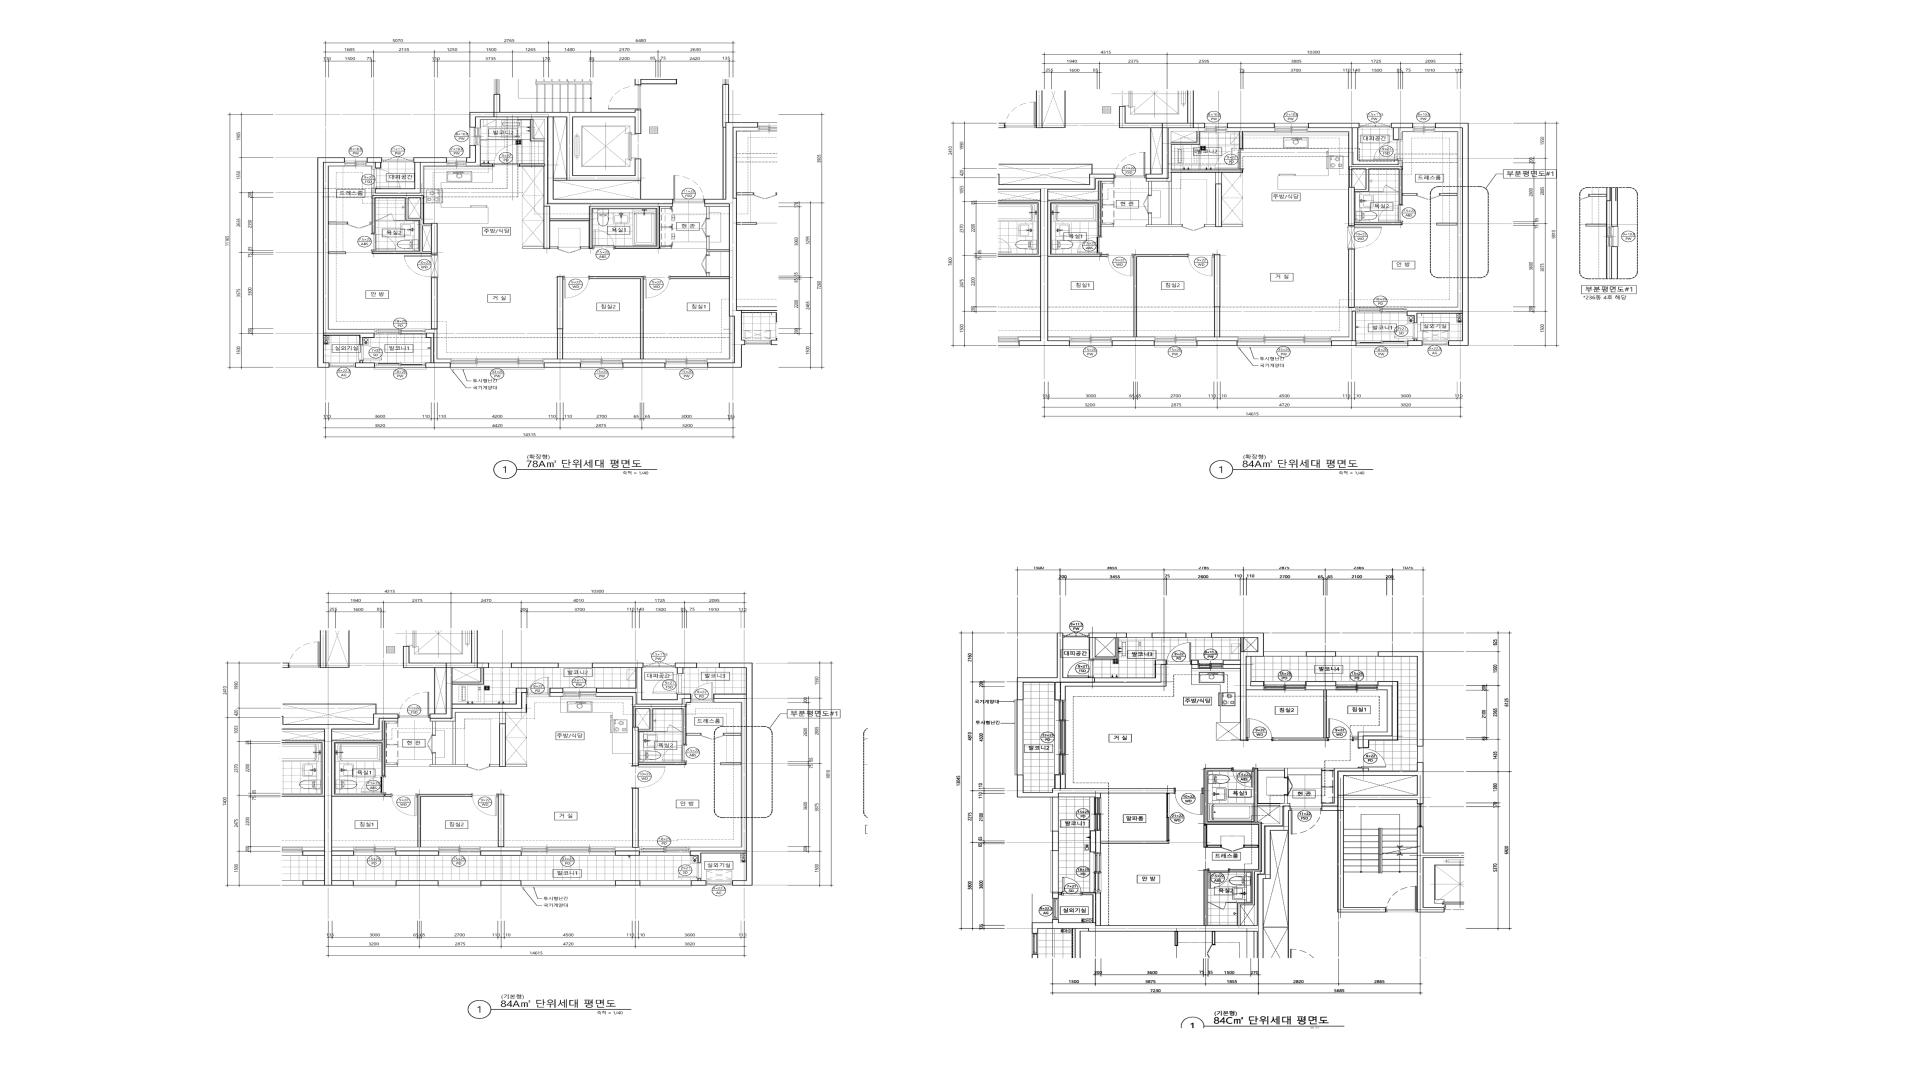door: (1291, 807, 1321, 835), (1114, 152, 1146, 178), (673, 175, 704, 202), (1174, 789, 1204, 815), (398, 692, 430, 717), (608, 86, 641, 109), (1349, 225, 1382, 249), (404, 255, 438, 277), (632, 766, 665, 789), (390, 794, 418, 816), (1215, 149, 1244, 170), (653, 674, 683, 694), (1328, 719, 1354, 741), (1246, 719, 1273, 741), (493, 144, 520, 166), (472, 794, 498, 816), (1374, 140, 1403, 160), (1166, 642, 1191, 665), (1108, 255, 1134, 276), (644, 277, 670, 298), (563, 277, 589, 298), (1188, 255, 1215, 276), (1358, 748, 1386, 767), (372, 169, 400, 189), (1067, 659, 1095, 678), (526, 676, 550, 696), (1378, 204, 1403, 223), (1207, 869, 1229, 889), (691, 683, 713, 703), (592, 229, 615, 249), (372, 233, 396, 252), (1077, 236, 1101, 255), (1233, 767, 1254, 787), (662, 745, 686, 762), (361, 777, 385, 794), (1062, 877, 1083, 895), (679, 862, 702, 878), (360, 344, 382, 360), (1395, 323, 1418, 339), (1208, 902, 1237, 910), (1166, 794, 1170, 841), (1284, 777, 1292, 796), (700, 733, 724, 740), (347, 222, 371, 228), (1182, 224, 1205, 231), (1221, 845, 1244, 852), (558, 247, 580, 253), (427, 735, 435, 753), (702, 255, 709, 273), (1143, 195, 1151, 214), (702, 219, 709, 236), (376, 214, 393, 222), (1383, 185, 1399, 193), (467, 765, 489, 770), (1418, 194, 1440, 199), (667, 725, 683, 732)
wall: (1031, 806, 1290, 959), (469, 94, 673, 204), (670, 84, 741, 368), (476, 117, 673, 219), (1321, 762, 1424, 913), (690, 663, 753, 886), (1407, 123, 1469, 345), (1204, 767, 1290, 926), (324, 713, 398, 886), (1040, 174, 1114, 345), (318, 157, 375, 368), (1407, 128, 1462, 311), (1017, 633, 1166, 700), (1146, 128, 1244, 227), (402, 646, 526, 719), (323, 162, 375, 332), (690, 699, 746, 851), (430, 692, 526, 766), (1120, 107, 1205, 179), (1212, 633, 1265, 741), (543, 206, 659, 249), (1134, 255, 1188, 336), (589, 277, 644, 359), (1378, 651, 1424, 746), (592, 663, 691, 704), (1418, 827, 1464, 913), (372, 195, 438, 255), (1308, 123, 1399, 165), (1308, 128, 1403, 166), (1017, 775, 1174, 798), (632, 707, 686, 766), (1349, 166, 1403, 225), (418, 794, 472, 847), (1273, 690, 1328, 741), (375, 157, 447, 194), (1358, 682, 1398, 748), (372, 162, 447, 195), (1263, 831, 1288, 927), (1321, 767, 1364, 806), (1344, 775, 1418, 795), (596, 694, 691, 707), (708, 316, 735, 363), (332, 719, 398, 732), (426, 334, 451, 368), (426, 330, 451, 363), (1332, 311, 1356, 345), (1048, 179, 1114, 191), (1332, 307, 1356, 340), (1089, 638, 1118, 659), (556, 277, 563, 359), (1257, 806, 1280, 824), (1215, 255, 1220, 336), (1171, 131, 1200, 145), (707, 236, 729, 255), (632, 789, 638, 848), (1391, 123, 1414, 140), (452, 669, 480, 682), (704, 204, 729, 219), (497, 794, 504, 847), (431, 277, 438, 330), (1352, 169, 1366, 190), (1349, 249, 1354, 307), (530, 120, 545, 141), (636, 709, 650, 729), (1216, 183, 1222, 227), (634, 79, 676, 86), (467, 145, 480, 166), (510, 663, 558, 669), (1089, 831, 1101, 852), (1228, 123, 1275, 128), (1305, 682, 1336, 690), (675, 663, 698, 674), (409, 198, 421, 218), (396, 851, 439, 856), (1204, 869, 1208, 926), (500, 724, 505, 766), (396, 881, 438, 886), (622, 363, 665, 368), (1112, 340, 1154, 345), (480, 851, 521, 856), (481, 881, 521, 886), (1197, 340, 1237, 345), (1089, 633, 1126, 638), (543, 363, 580, 368), (1228, 128, 1275, 132), (367, 157, 382, 169), (1153, 633, 1187, 638), (1101, 841, 1170, 844), (1399, 128, 1414, 140), (396, 847, 439, 851), (622, 359, 665, 363), (1112, 336, 1154, 340), (480, 847, 521, 851), (1305, 651, 1336, 657), (467, 145, 476, 162), (355, 360, 375, 368), (1197, 336, 1237, 340), (543, 359, 580, 363), (615, 851, 640, 856), (1052, 831, 1059, 851), (691, 878, 707, 886), (616, 881, 640, 886), (615, 847, 640, 851), (1408, 339, 1423, 345), (1048, 336, 1069, 340), (332, 847, 353, 851), (1240, 132, 1244, 149), (520, 164, 545, 166), (1191, 661, 1199, 669), (1150, 128, 1151, 174), (434, 669, 435, 713), (1222, 224, 1244, 227), (522, 247, 543, 249), (550, 692, 563, 696), (550, 688, 563, 692), (367, 162, 375, 169), (686, 733, 700, 736), (1101, 224, 1114, 227), (1241, 638, 1244, 651), (1052, 893, 1059, 898), (480, 164, 493, 166), (554, 178, 567, 181), (659, 247, 671, 249), (505, 765, 527, 766), (1205, 224, 1216, 227), (580, 247, 589, 249), (640, 181, 641, 199), (550, 247, 558, 249), (1403, 194, 1418, 195), (1370, 191, 1383, 193), (385, 765, 397, 766), (393, 220, 405, 222), (489, 765, 500, 766), (707, 273, 709, 277), (1353, 738, 1358, 740), (1059, 893, 1062, 895), (371, 222, 372, 224), (653, 732, 667, 732)
window: (450, 359, 545, 369), (1237, 336, 1332, 347), (521, 847, 615, 856), (1055, 700, 1065, 775), (521, 881, 616, 887), (1015, 700, 1023, 775), (1089, 852, 1101, 893), (640, 847, 690, 856), (665, 359, 708, 369), (1154, 336, 1197, 347), (580, 359, 622, 369), (1069, 336, 1112, 347), (375, 330, 426, 338), (1089, 798, 1101, 831), (353, 847, 396, 856), (1050, 851, 1059, 893), (439, 847, 480, 856), (640, 881, 691, 887), (375, 363, 426, 369), (1336, 682, 1378, 690), (1263, 682, 1305, 690), (1275, 123, 1308, 132), (1050, 798, 1059, 831), (438, 881, 481, 887), (353, 881, 396, 887), (1356, 342, 1408, 347), (1356, 307, 1407, 313), (563, 688, 596, 696), (1199, 659, 1224, 669), (1336, 651, 1378, 657), (1263, 651, 1305, 657), (1205, 123, 1228, 132), (344, 157, 367, 166), (1414, 123, 1435, 132), (447, 157, 467, 166), (558, 663, 592, 669), (469, 128, 480, 145), (1063, 632, 1089, 638), (1360, 123, 1391, 128), (644, 662, 675, 667), (381, 157, 413, 162), (1418, 804, 1424, 827), (1052, 898, 1059, 919), (1126, 633, 1153, 638), (1187, 633, 1212, 638), (330, 363, 355, 368), (1418, 746, 1424, 762), (1423, 342, 1448, 345), (707, 881, 732, 885), (698, 663, 719, 667), (489, 663, 510, 667)
